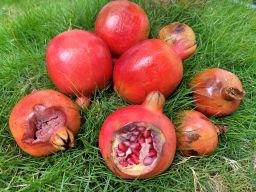pomegranate: (98, 90, 176, 178), (113, 39, 196, 105), (45, 30, 114, 108), (9, 89, 81, 157), (93, 0, 150, 56), (189, 69, 246, 116), (174, 109, 229, 155), (159, 22, 196, 53)
